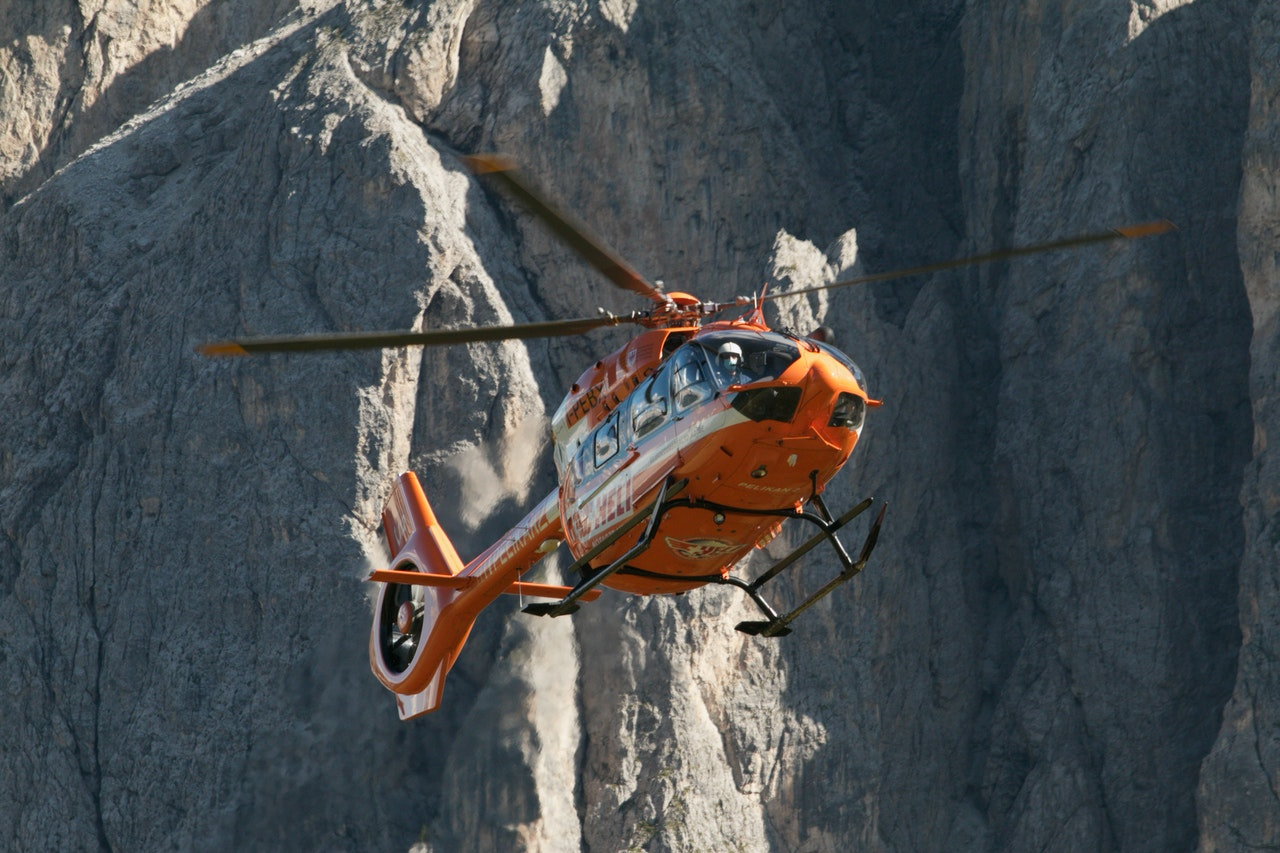heli: (191, 153, 1175, 723)
